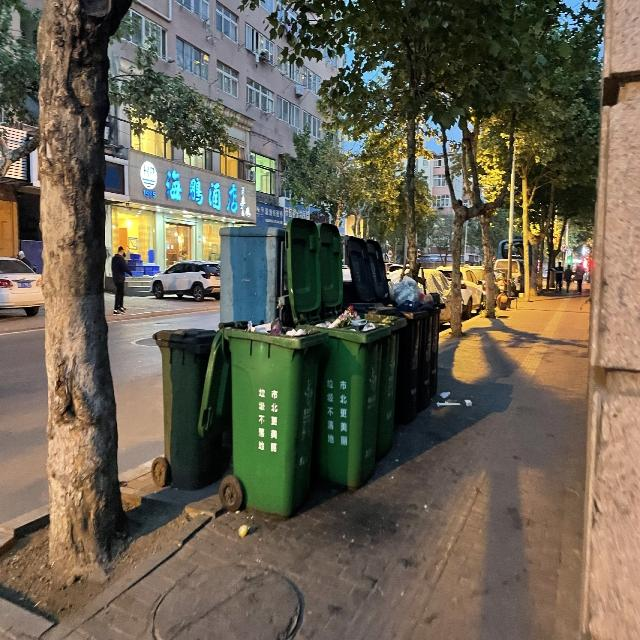garbage_bin: (151, 327, 228, 490), (364, 313, 407, 458)
overflow: (194, 315, 326, 518), (294, 305, 390, 488), (382, 276, 437, 423)
